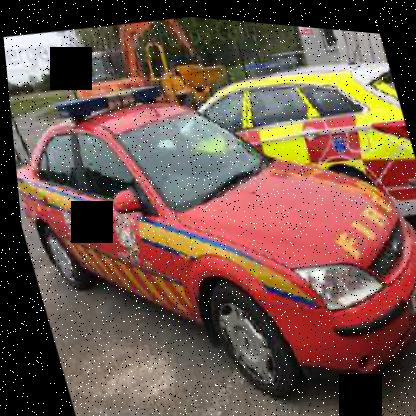emergency: (1, 26, 415, 415), (175, 40, 415, 258)
